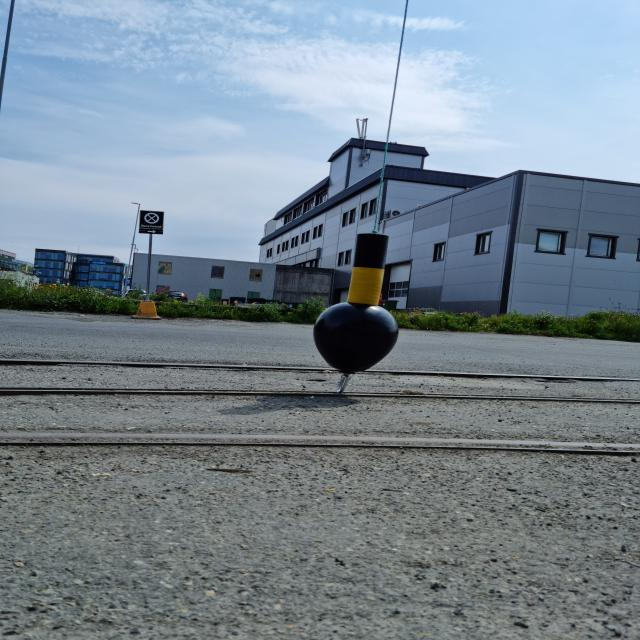east: (312, 233, 399, 373)
